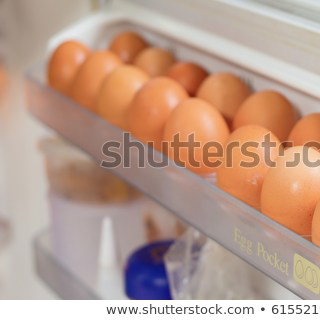egg: (46, 27, 320, 248)
